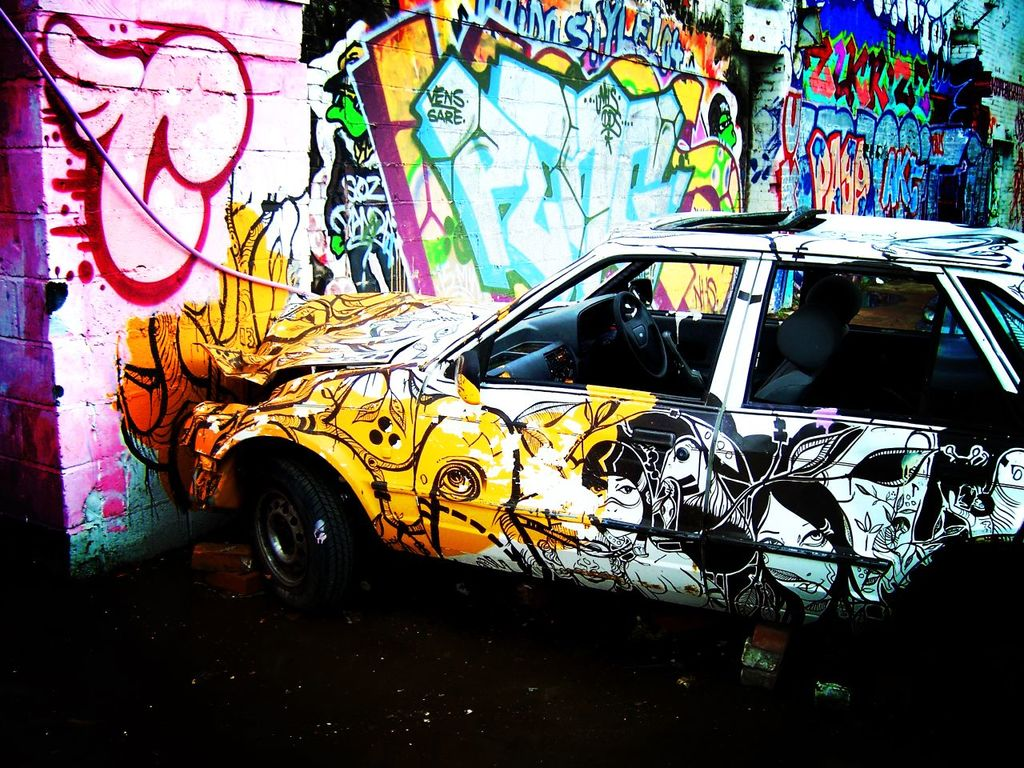Car: (178, 202, 1023, 628)
